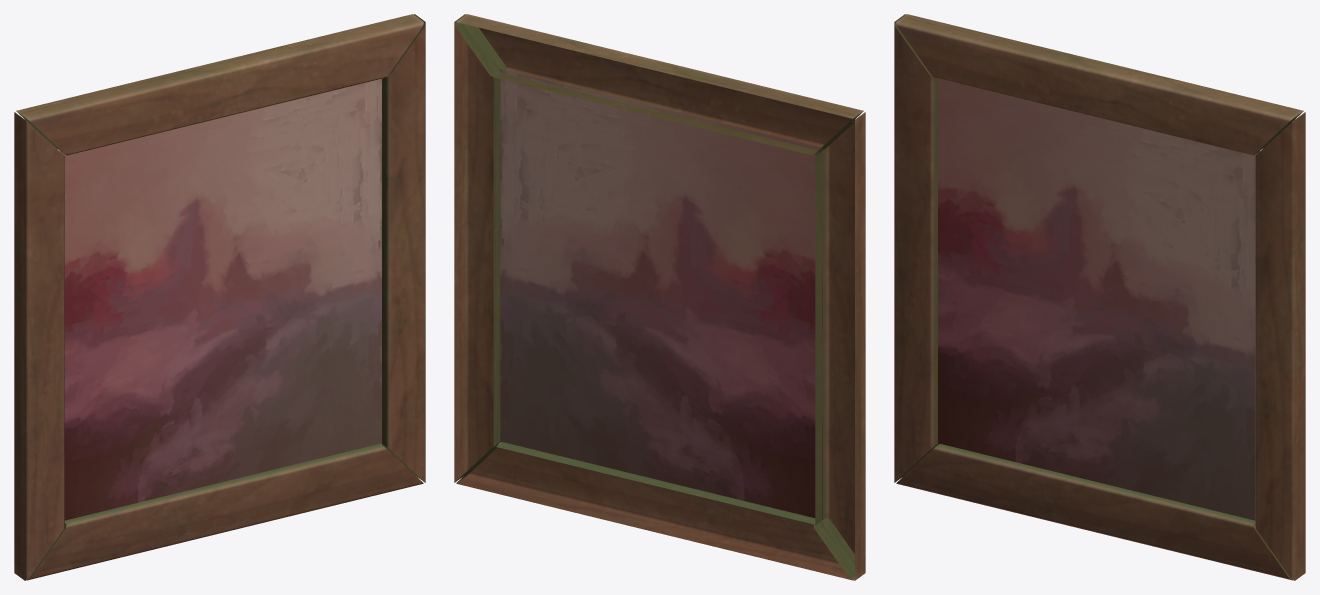
The model's file is SM_Frames_05.fbx.
The picture shows the model from 3 angles, left to right: view 1: azimuth 30°, elevation 25°; view 2: azimuth 150°, elevation 25°; view 3: azimuth 330°, elevation 25°; orthographic projection.
Visible parts, largest first — view 1: SM_Frames_05_LOD0; view 2: SM_Frames_05_LOD0; view 3: SM_Frames_05_LOD0.
Boxes of the visible parts, x1,y1,x2,y2 form: SM_Frames_05_LOD0: (14,14,425,580); SM_Frames_05_LOD0: (454,14,865,580); SM_Frames_05_LOD0: (894,14,1305,580).
Size of the model in its own units: 33.83 by 2 by 37.25.
Materials: 1 (1 with a texture image).
